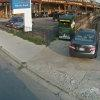Car: (63, 26, 100, 71)
